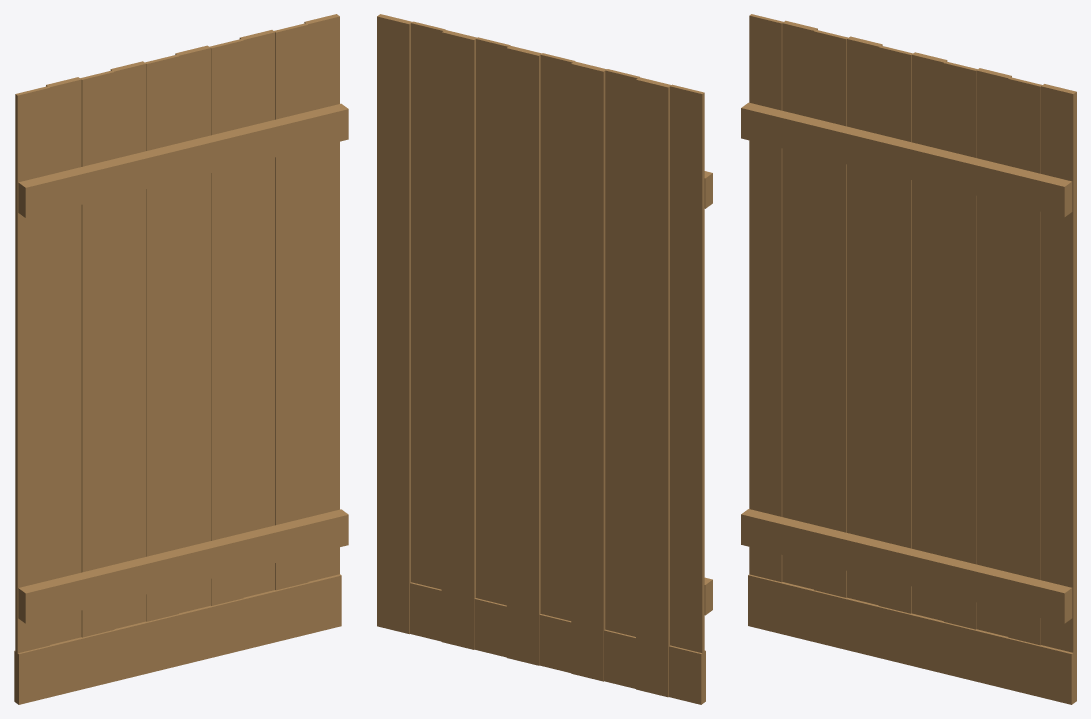
The model's file is boundary.closeboard.h1800.glb.
The picture shows the model from 3 angles, left to right: view 1: azimuth 30°, elevation 25°; view 2: azimuth 150°, elevation 25°; view 3: azimuth 330°, elevation 25°; orthographic projection.
Visible parts, largest first — view 1: main__softwood; view 2: main__softwood; view 3: main__softwood.
Part boxes in pixels (x1=…): main__softwood: x1=14, y1=14, x2=348, y2=704; main__softwood: x1=377, y1=14, x2=712, y2=704; main__softwood: x1=741, y1=14, x2=1076, y2=704.
Bounding box in the file's own units: 1 × 1.8 × 0.065.
